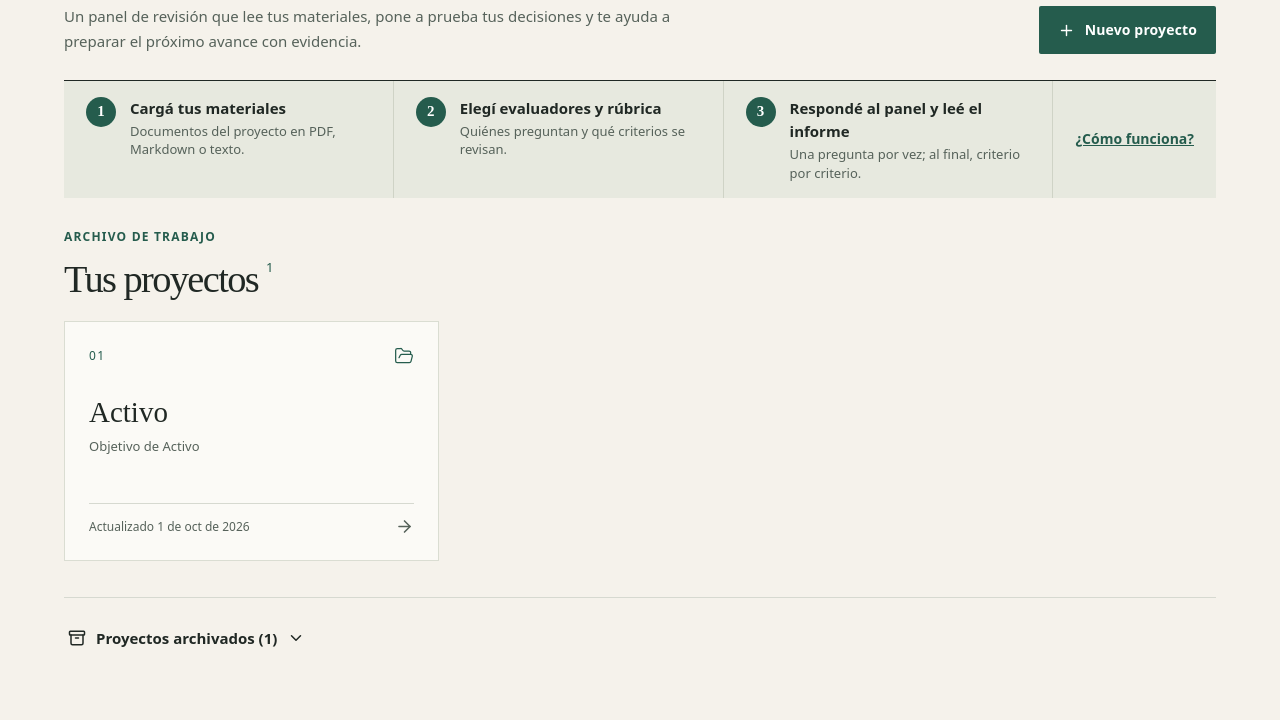
Test: inicio: orden, pasos y archivados › lista los archivados plegados y "Restaurar" los devuelve con la revisión vigente
(page scrolled)
Expected: the button "Restaurar" is not shown
Click the button "Proyectos archivados (1)": (187, 638) x1=64 y1=616 x2=309 y2=660
(page scrolled)
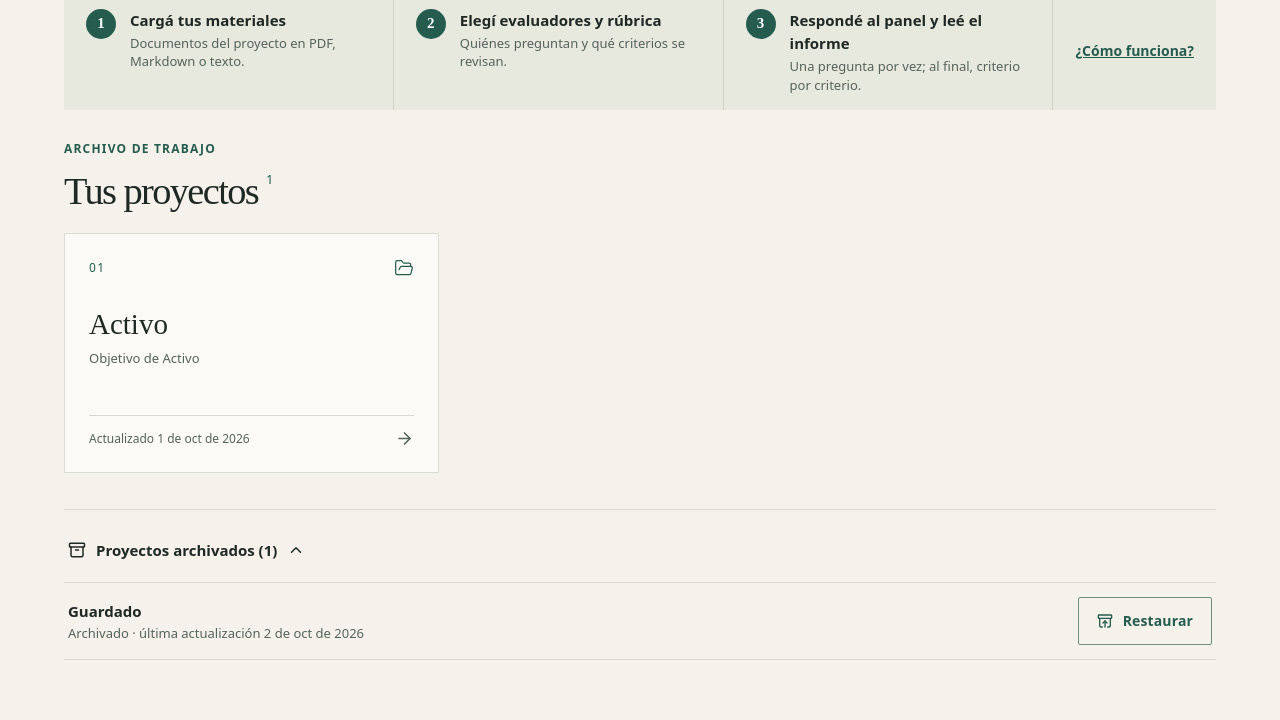
Expected: the button "Proyectos archivados (1)" is expanded, x1=64 y1=528 x2=309 y2=572
Click the button with aria-label "Restaurar «Guardado»": (1145, 621) x1=1078 y1=597 x2=1212 y2=645
(page scrolled)
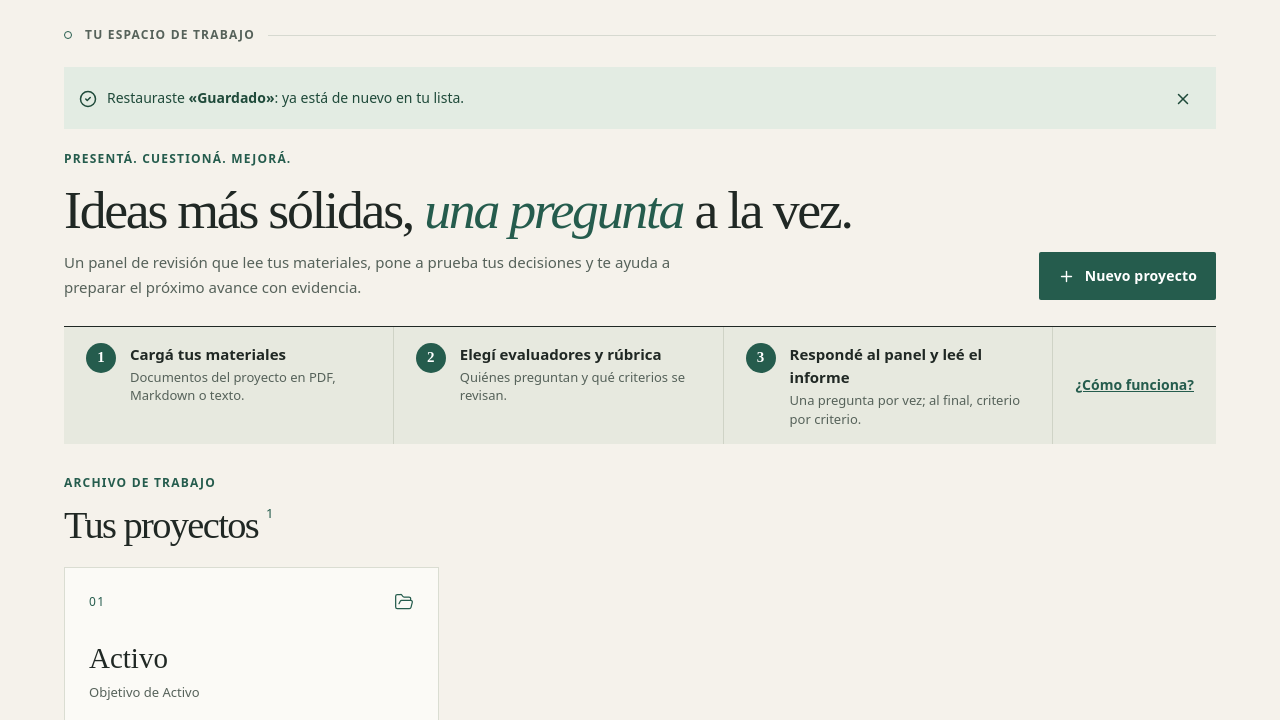
Expected: the text "Restauraste «Guardado»: ya está de nuevo en tu lista." is shown, x1=107 y1=88 x2=464 y2=107
